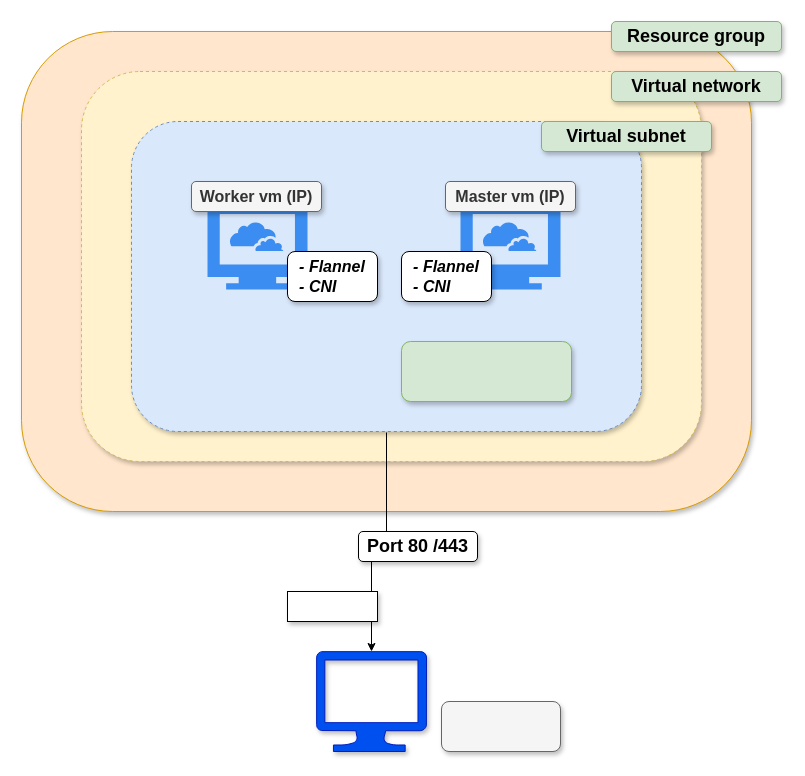
The diagram is 805 pixels wide and 776 high, and some of its shapes have lost their labels. The shapes that lost their labels are listed below. From the top down, each one's centre as x and y in pixels, then its label:
pixel 487 372: Network security group
pixel 333 607: Port 22
pixel 501 727: Ansible controller
